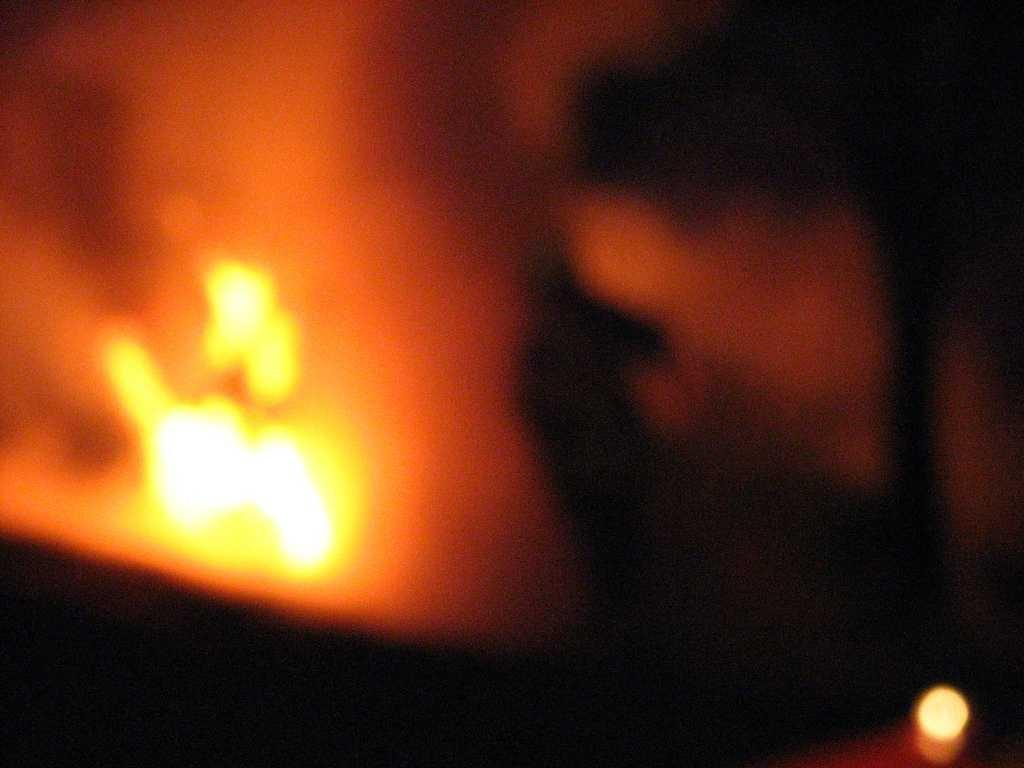fire: (160, 404, 342, 564)
